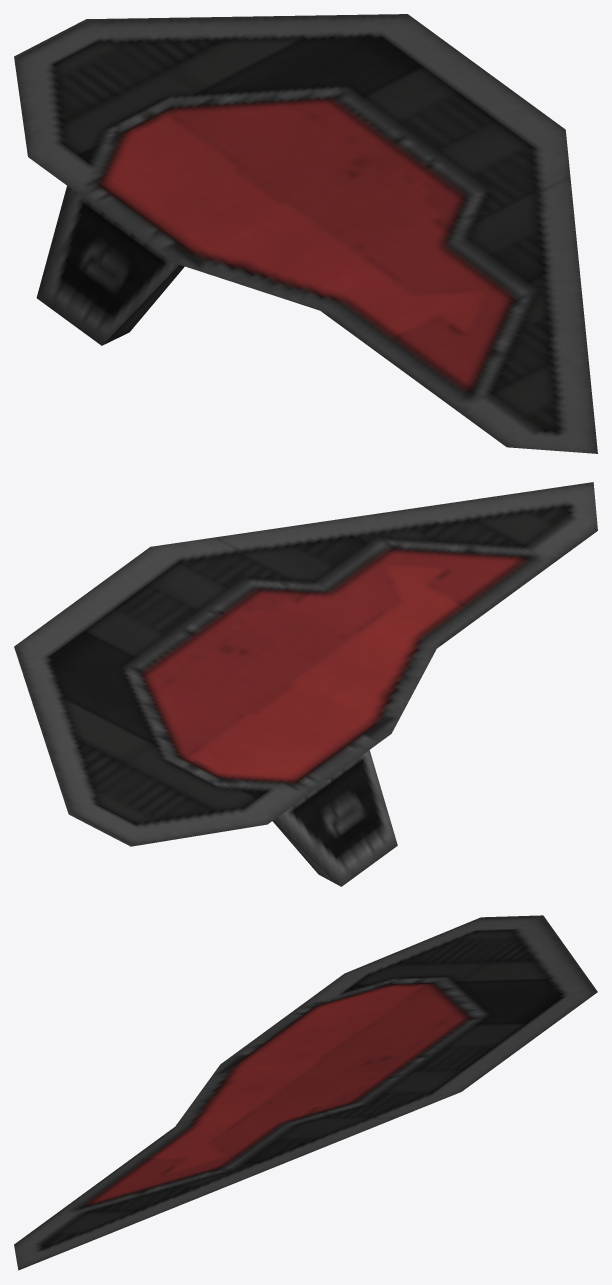
The model's file is BFP_HyperWing01_UpperLeft.FBX.
The picture shows the model from 3 angles, top to bottom: view 1: azimuth 30°, elevation 25°; view 2: azimuth 150°, elevation 25°; view 3: azimuth 330°, elevation 25°; orthographic projection. The views are drawn at different scales.
Visible parts, largest first — view 1: BFP_HyperWing01_UpperLeft; view 2: BFP_HyperWing01_UpperLeft; view 3: BFP_HyperWing01_UpperLeft.
Boxes of the visible parts, <box> form: BFP_HyperWing01_UpperLeft: <box>14,14,597,453</box>; BFP_HyperWing01_UpperLeft: <box>14,482,597,886</box>; BFP_HyperWing01_UpperLeft: <box>14,915,597,1270</box>.
Size of the model in its own units: 41.96 by 20.26 by 108.
Materials: 1 (1 with a texture image).
